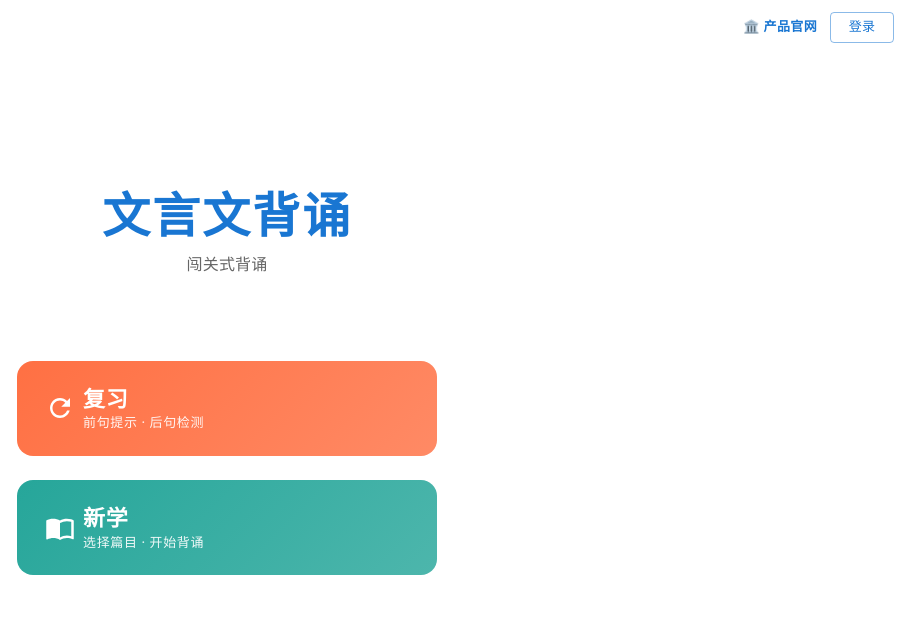
Test case: opens the public login page from the home login button
Click the button "登录" at [862, 27], box [830,12,894,43]
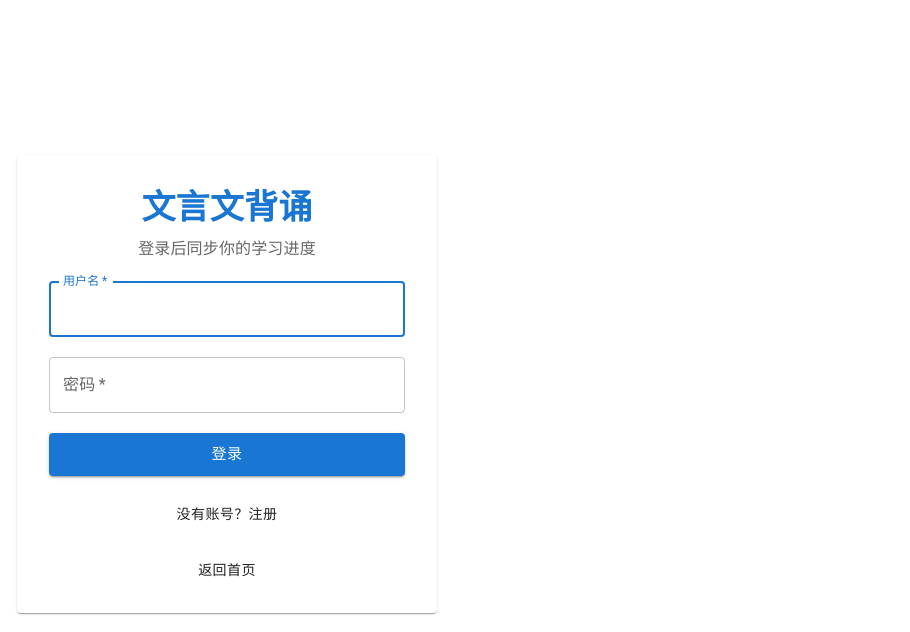
Check: the field labelled "用户名 *" is shown, box [49,281,405,337]
